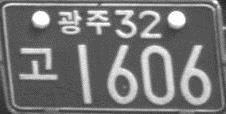0: (140, 43, 175, 106)
1: (75, 43, 95, 106)
2: (138, 9, 163, 40)
3: (114, 8, 137, 39)
6: (178, 43, 212, 106), (105, 43, 138, 105)
고: (17, 46, 59, 82)
광주_O: (56, 8, 111, 37)
